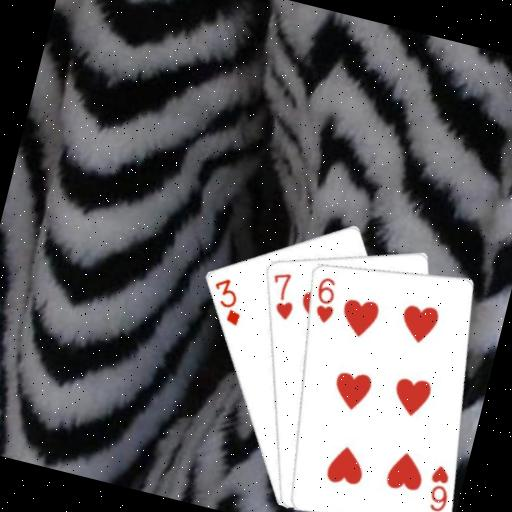3D: (203, 272, 251, 329)
6H: (306, 272, 343, 327), (420, 460, 456, 512)
7H: (260, 267, 303, 324)
